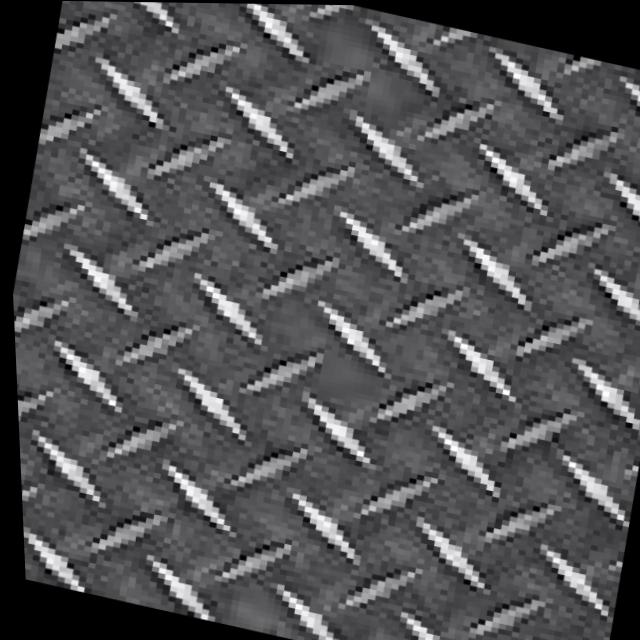metal-plates: (11, 2, 640, 640)
